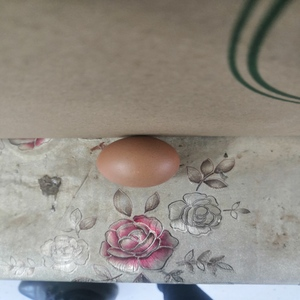brown egg: (96, 134, 182, 188)
